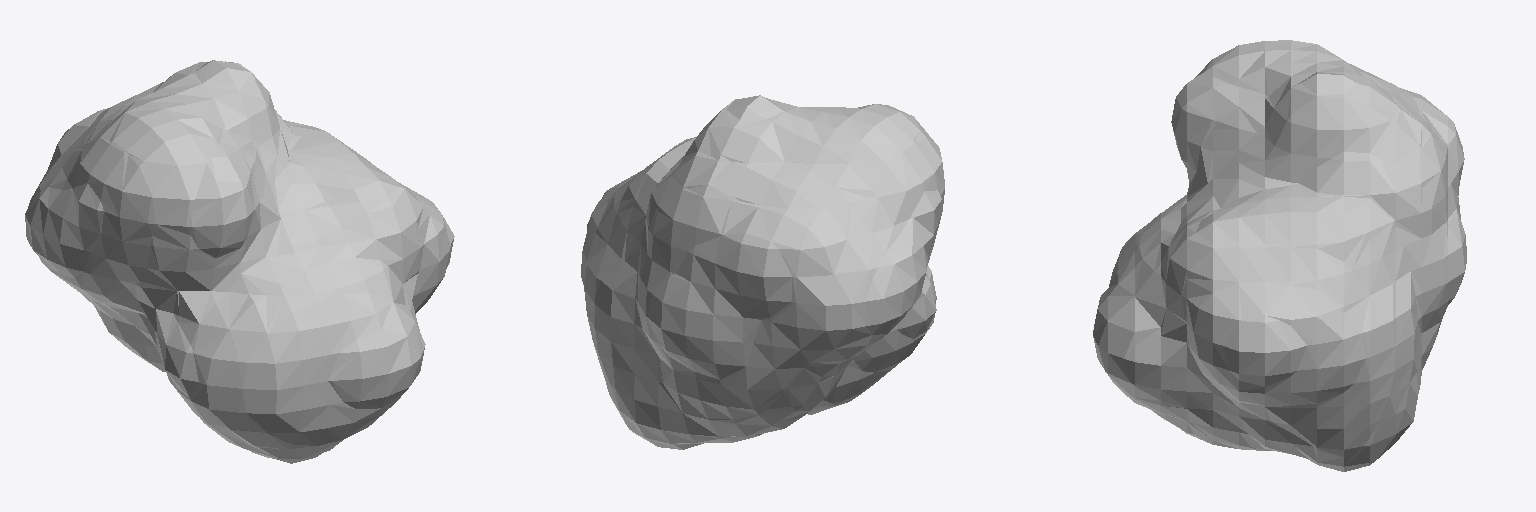
File: 1amo_1_cms.obj
3 renders of one model, left to right at view 1: azimuth 30°, elevation 25°; view 2: azimuth 150°, elevation 25°; view 3: azimuth 270°, elevation 25°, orthographic.
Bounding box in the file's own units: 91.78 × 85.66 × 82.17.